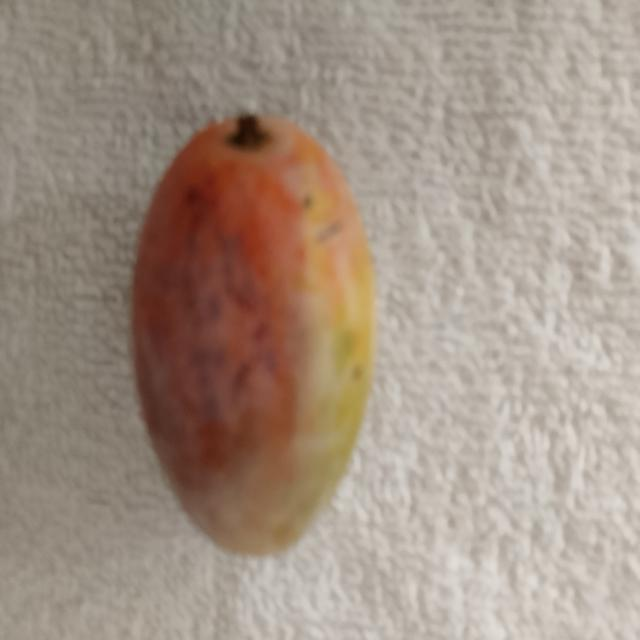mango: (133, 117, 375, 553)
